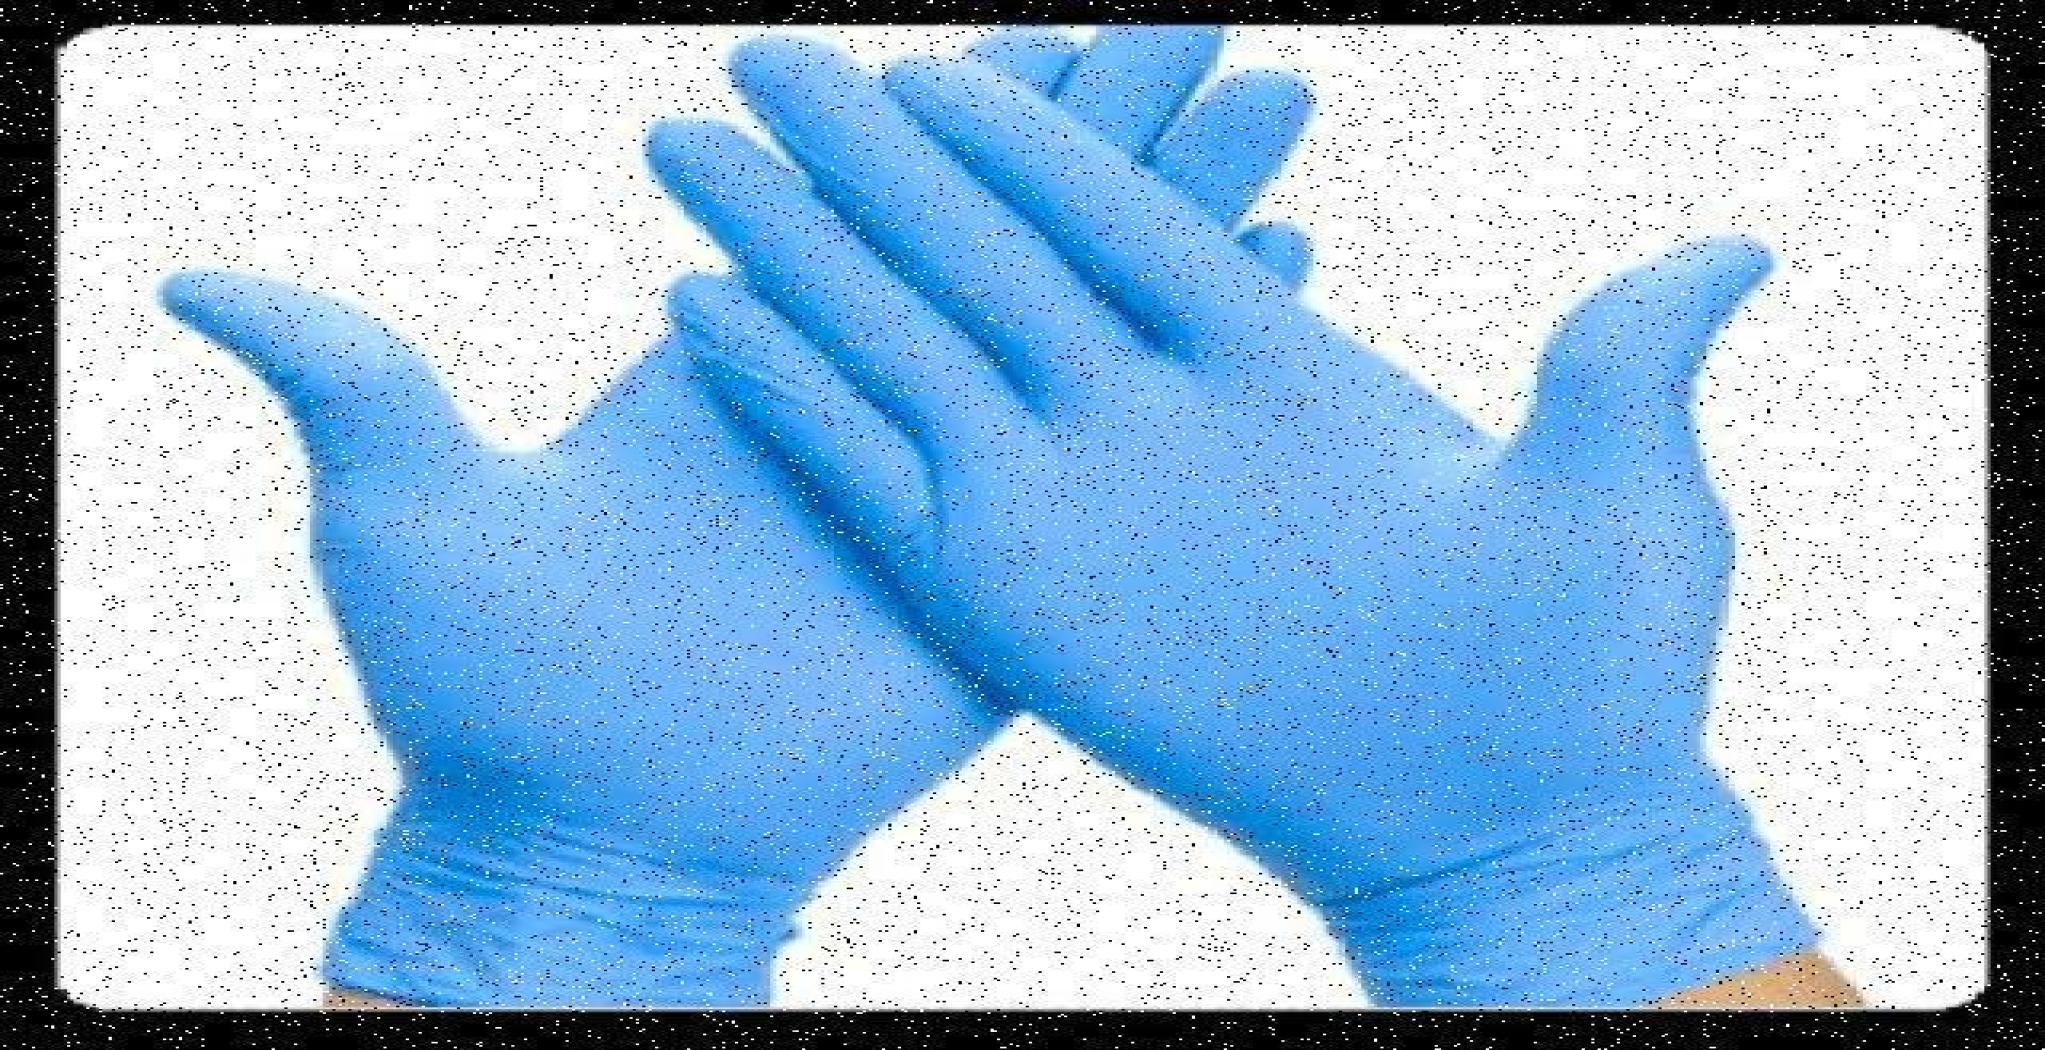gloved: (621, 50, 1880, 984), (196, 46, 1208, 991)
